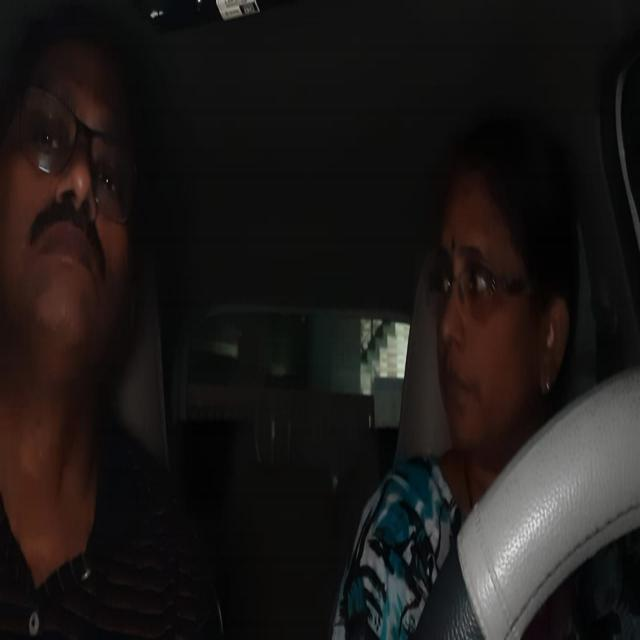LeftRight: (429, 98, 590, 478)
person: (1, 2, 166, 380)
